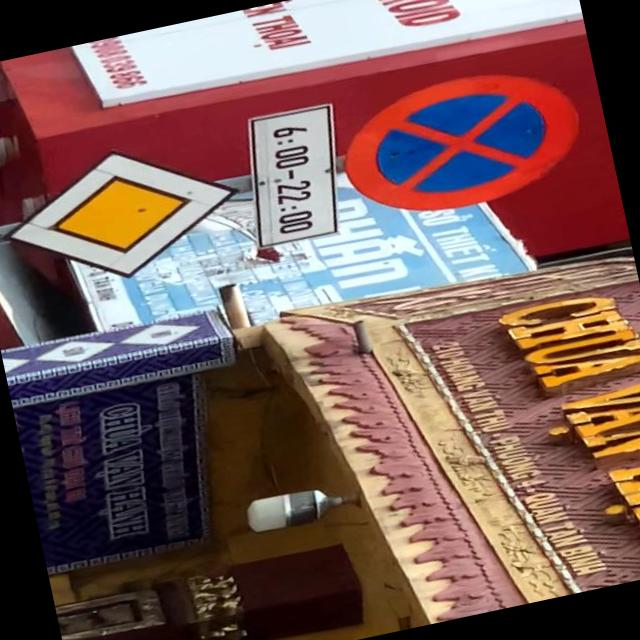P-131a: (332, 55, 592, 226)
